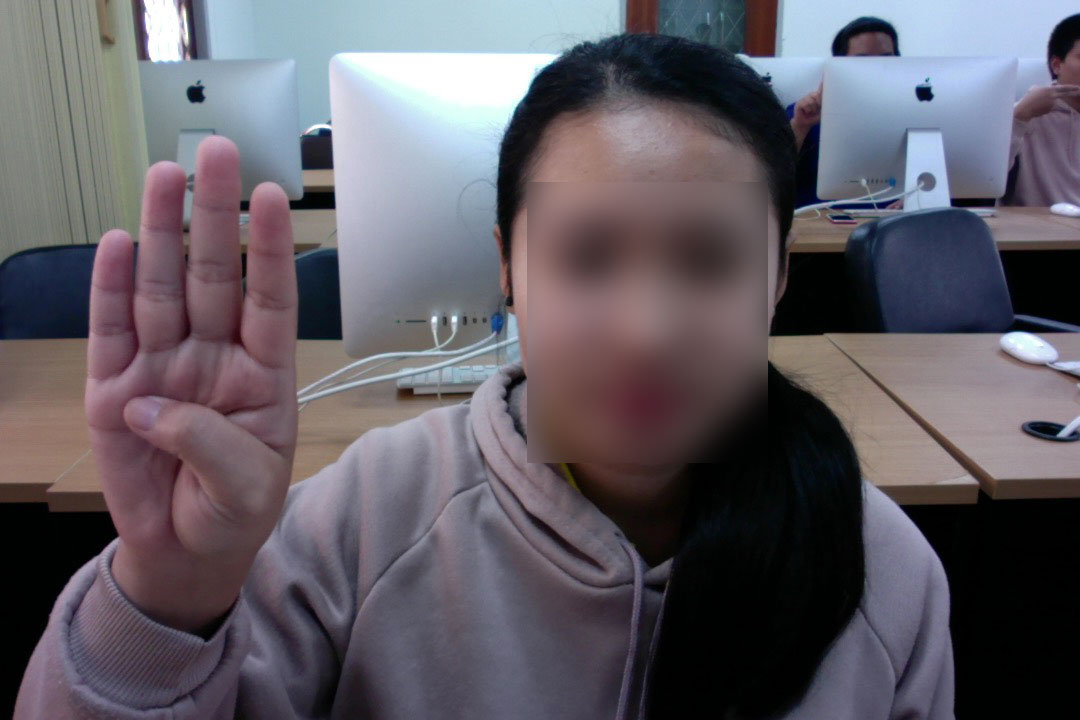bor: (67, 129, 307, 616)
